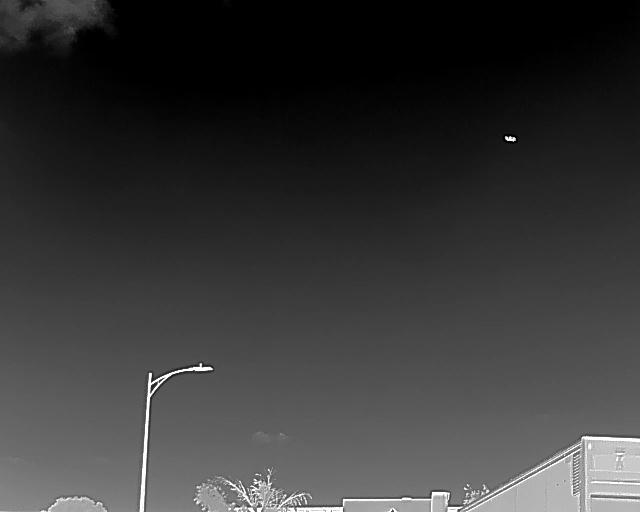fpv-drone: (504, 135, 518, 144)
